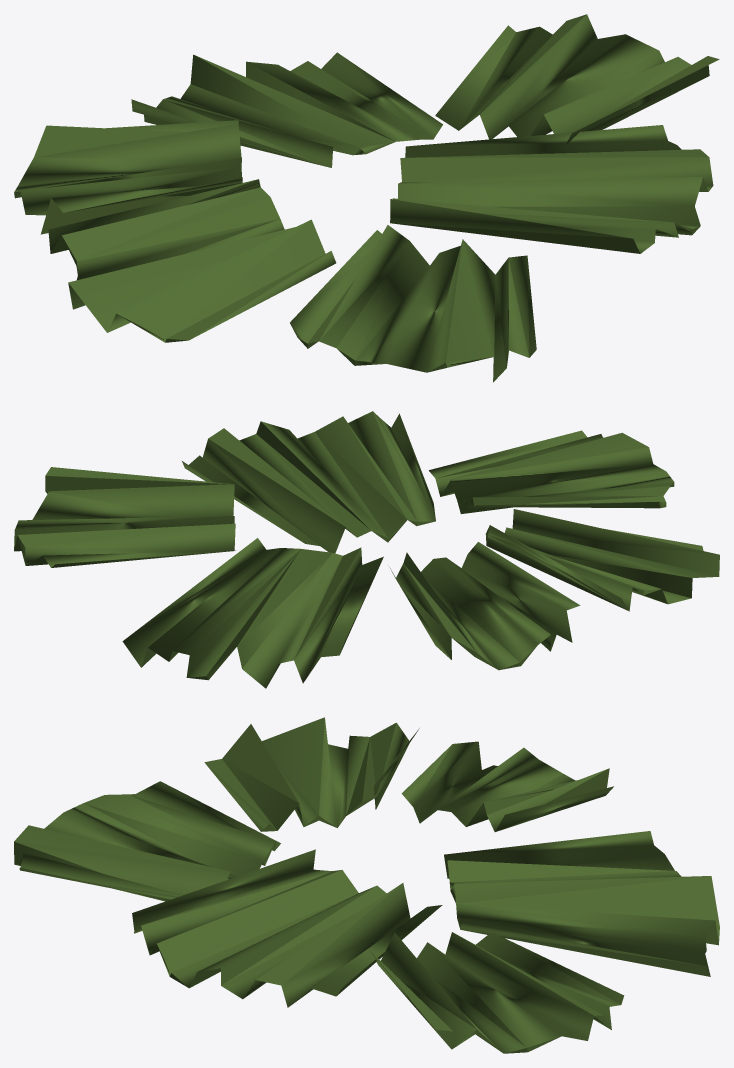
Rendered from cc0-lettuce-lod1.glb.
The picture shows the model from 3 angles, top to bottom: view 1: azimuth 30°, elevation 25°; view 2: azimuth 150°, elevation 25°; view 3: azimuth 270°, elevation 25°; orthographic projection. The views are drawn at different scales.
Parts seen in each view (by area): view 1: part_0; view 2: part_0; view 3: part_0.
Part boxes in pixels (x1,y1,x2,y2): part_0: (14,14,719,382); part_0: (14,411,719,688); part_0: (14,717,719,1053).
Size of the model in its own units: 1.79 by 0.2306 by 1.68.
